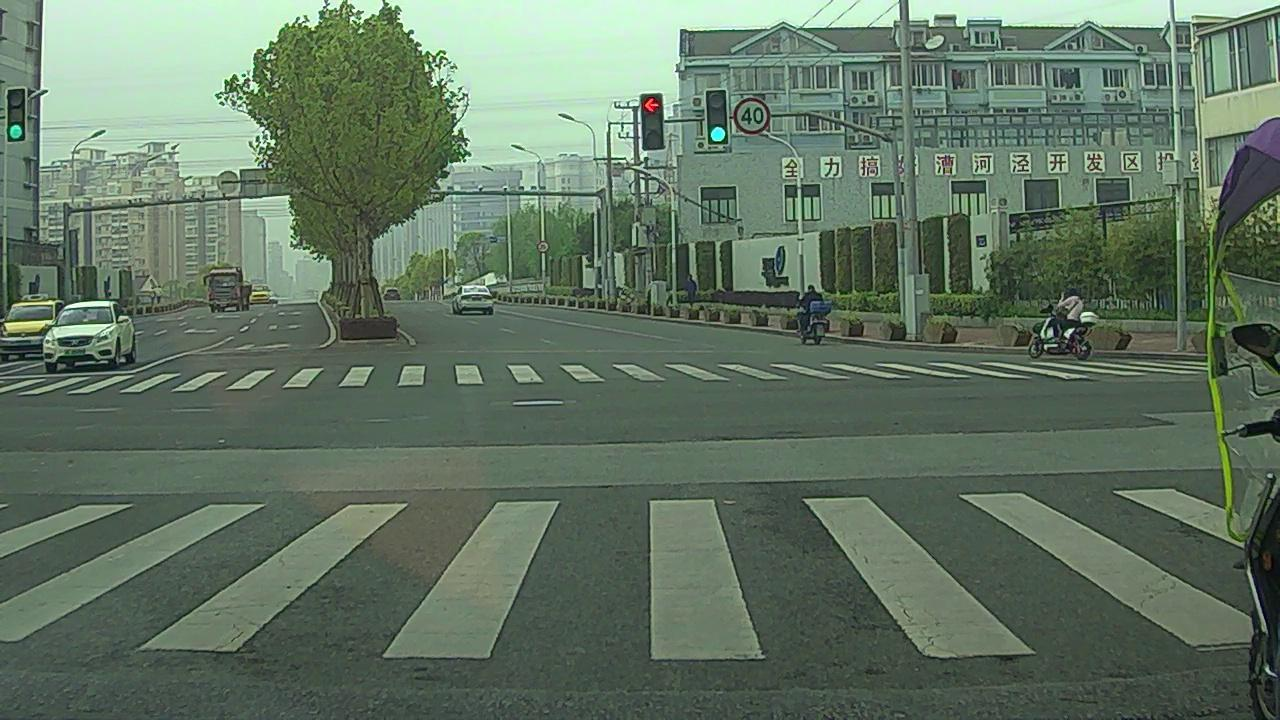traffic_light: (640, 94, 663, 149), (705, 88, 727, 144), (6, 89, 25, 144)
